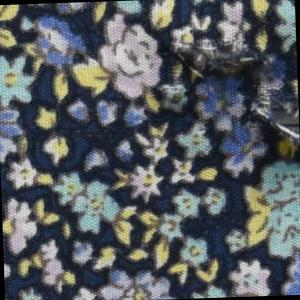Damage: (147, 1, 300, 169)
